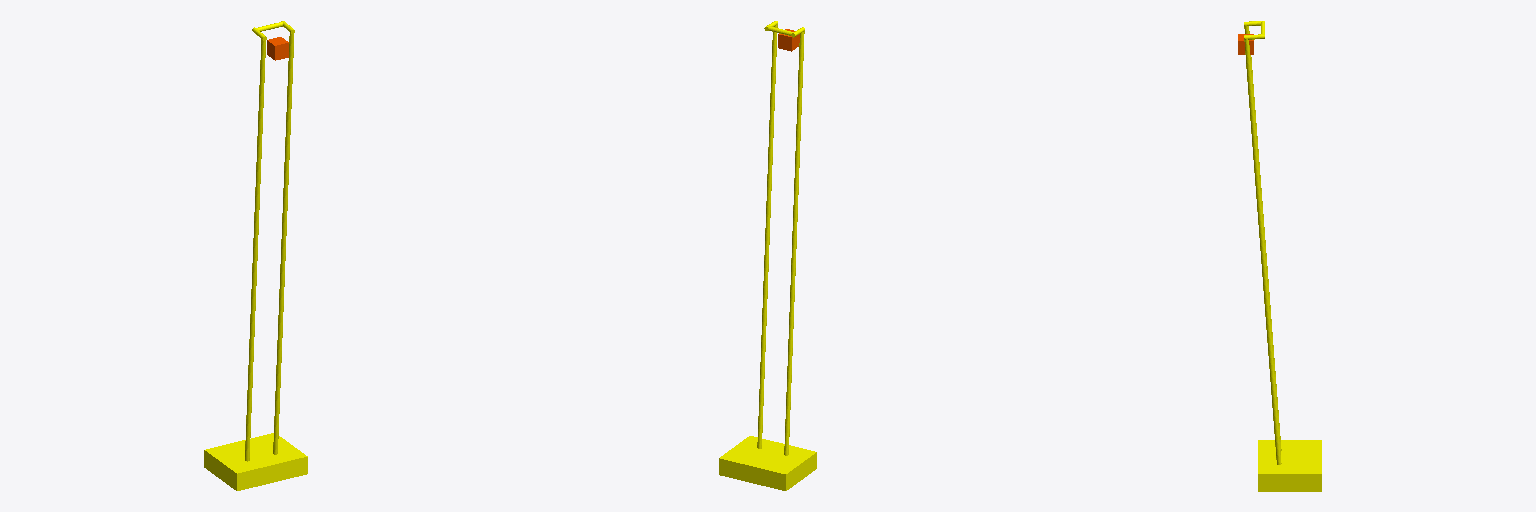
The robot description file, URDF, robot "box_dummy":
<?xml version="1.0"?>
<robot name="box_dummy">
  <material name="black">
    <color rgba="0.0 0.0 0.0 1.0"/>
  </material>
  <material name="orange">
    <color rgba="1.0 0.4 0.0 1.0"/>
  </material>

  <material name="transparency">
    <color rgba="0 0 0 0"/>
  </material>



  <link name="world" />
  <joint name="world_to_base_link=" type="fixed">
    <parent link="world"/>
    <child link="base"/>
    <origin rpy="-1.5707 0 0" xyz="0 0 -0.1445"/>
  </joint>

  <link name="base">
    <visual>
        <geometry>
            <box size="0.05 0.012 0.04"/>
        </geometry>
        <origin rpy="0 0 0" xyz="0 0 0"/>
        <material name="yellow">
            <color rgba="1 1 0 1"/>
        </material>
    </visual>
    <collision>
        <geometry>
          <box size="0.05 0.012 0.04"/>
        </geometry>
        <origin rpy="0 0 0" xyz="0 0 0"/>
    </collision>
    <inertial>
      <mass value="1"/>
      <inertia ixx="1.0" ixy="0.0" ixz="0.0" iyy="1.0" iyz="0.0" izz="1.0"/>       
    </inertial>
  </link>

  <!-- gripper contact point -->
  <link name="tool">
    <inertial>
      <mass value="0.0"/>
      <origin rpy="0 0 0" xyz="0.0 0.0 0.0"/>
      <inertia ixx="0.0" ixy="0.0" ixz="0.0" iyy="0.0" iyz="0.0" izz="0.0"/>
    </inertial>
    <visual>
      <geometry>
        <box size="0.01 0.01 0.01"/>
      </geometry>
      <origin rpy="0 0 0" xyz="0 0 0"/>
       <!-- set contact point color -->
      <material name="orange"/>
    </visual>
  </link>
  <!-- set gripper contact point -->
  <joint name="gripper_contact_point" type="fixed">
    <!-- origin rpy="0 0 0" xyz="0 -0.3 -0.0165" -->
    <origin rpy="0 0 0" xyz="0 -0.29 -0.027"/>
    <parent link="base"/>
    <child link="tool"/>
  </joint>

  <link name="left_cylinder">
   <visual>
        <geometry>
          <cylinder radius="0.0015" length="0.3"/>
        </geometry>
        <origin rpy="0 0 0" xyz="0 0 0"/>
        <material name="yellow">
            <color rgba="1 1 0 1"/>
        </material>
    </visual>
    <collision>
        <geometry>
          <cylinder radius="0.0015" length="0.3"/>
        </geometry>
        <origin rpy="0 0 0" xyz="0 0 0"/>
    </collision>
    <inertial>
      <mass value="1"/>
      <inertia ixx="1.0" ixy="0.0" ixz="0.0" iyy="1.0" iyz="0.0" izz="1.0"/>       
    </inertial>
  </link>

  

  <joint name="base_to_left_cylinder" type="fixed">
    <parent link="base"/>
    <child link="left_cylinder"/>
    <origin rpy="1.64 0 0" xyz="-0.01 -0.15 -0.0165"/>
  </joint>

  <link name="right_cylinder">
   <visual>
        <geometry>
          <cylinder radius="0.0015" length="0.3"/>
        </geometry>
        <origin rpy="0 0 0" xyz="0 0 0"/>
        <material name="yellow">
            <color rgba="1 1 0 1"/>
        </material>
    </visual>
    <collision>
        <geometry>
          <cylinder radius="0.0015" length="0.3"/>
        </geometry>
        <origin rpy="0 0 0" xyz="0 0 0"/>
    </collision>
    <inertial>
      <mass value="1"/>
      <inertia ixx="1.0" ixy="0.0" ixz="0.0" iyy="1.0" iyz="0.0" izz="1.0"/>       
    </inertial>
  </link>

  

  <joint name="base_to_right_cylinder" type="fixed">
    <parent link="base"/>
    <child link="right_cylinder"/>

    <origin rpy="1.64 0 0" xyz="0.01 -0.15 -0.0165"/>
  </joint>


  <link name="left2_cylinder">
   <visual>
        <geometry>
          <cylinder radius="0.0015" length="0.013"/>
        </geometry>
        <origin rpy="0 0 0" xyz="0 0 0"/>
        <material name="yellow">
            <color rgba="1 1 0 1"/>
        </material>
    </visual>
    <collision>
        <geometry>
          <cylinder radius="0.0015" length="0.013"/>
        </geometry>
        <origin rpy="0 0 0" xyz="0 0 0"/>
    </collision>
    <inertial>
      <mass value="1"/>
      <inertia ixx="1.0" ixy="0.0" ixz="0.0" iyy="1.0" iyz="0.0" izz="1.0"/>       
    </inertial>
  </link>

  

  <joint name="left_cylinder_to_left2_cylinder" type="fixed">
    <parent link="left_cylinder"/>
    <child link="left2_cylinder"/>
    <origin rpy="1.5707 0 0" xyz="0 0.00525 0.15"/>
  </joint>



  <link name="right2_cylinder">
   <visual>
        <geometry>
          <cylinder radius="0.0015" length="0.013"/>
        </geometry>
        <origin rpy="0 0 0" xyz="0 0 0"/>
        <material name="yellow">
            <color rgba="1 1 0 1"/>
        </material>
    </visual>
    <collision>
        <geometry>
          <cylinder radius="0.0015" length="0.013"/>
        </geometry>
        <origin rpy="0 0 0" xyz="0 0 0"/>
    </collision>
    <inertial>
      <mass value="1"/>
      <inertia ixx="1.0" ixy="0.0" ixz="0.0" iyy="1.0" iyz="0.0" izz="1.0"/>       
    </inertial>
  </link>

  

  <joint name="right_cylinder_to_right2_cylinder" type="fixed">
    <parent link="right_cylinder"/>
    <child link="right2_cylinder"/>
    <origin rpy="1.5707 0 0" xyz="0 0.00525 0.15"/>
  </joint>


  <link name="end_cylinder">
   <visual>
        <geometry>
          <cylinder radius="0.0015" length="0.02"/>
        </geometry>
        <origin rpy="0 0 0" xyz="0 0 0"/>
        <material name="yellow">
            <color rgba="1 1 0 1"/>
        </material>
    </visual>
    <collision>
        <geometry>
          <cylinder radius="0.0015" length="0.018"/>
        </geometry>
        <origin rpy="0 0 0" xyz="0 0 0"/>
    </collision>
    <inertial>
      <mass value="1"/>
      <inertia ixx="1.0" ixy="0.0" ixz="0.0" iyy="1.0" iyz="0.0" izz="1.0"/>       
    </inertial>
  </link>

  

  <joint name="right2_cylinder_to_end_cylinder" type="fixed">
    <parent link="right2_cylinder"/>
    <child link="end_cylinder"/>
    <origin rpy="0 1.5707 0" xyz="-0.01 0 -0.005"/>
  </joint>
</robot>

--- Render facts (derived) ---
Views: 3 orthographic renders of the robot side by side, from view 1: azimuth 30°, elevation 25°; view 2: azimuth 150°, elevation 25°; view 3: azimuth 270°, elevation 25°.
Robot: box_dummy — 8 links, 7 joints (7 fixed); root link world; default pose: all joints at 0.
Links seen in each view (by area): view 1: base, left_cylinder, right_cylinder; view 2: base, left_cylinder, right_cylinder; view 3: base, right_cylinder.
Link boxes in pixels (bbox=[...]): base: bbox=[204, 433, 307, 490]; left_cylinder: bbox=[245, 39, 265, 461]; right_cylinder: bbox=[273, 32, 293, 454]; base: bbox=[719, 436, 816, 490]; left_cylinder: bbox=[784, 31, 804, 455]; right_cylinder: bbox=[757, 24, 777, 448]; base: bbox=[1258, 440, 1321, 491]; right_cylinder: bbox=[1244, 38, 1281, 464].
Size in the robot's own frame: 0.05 by 0.052 by 0.3079 metres.
Geometry: primitives only (box / cylinder / sphere), no mesh files.
